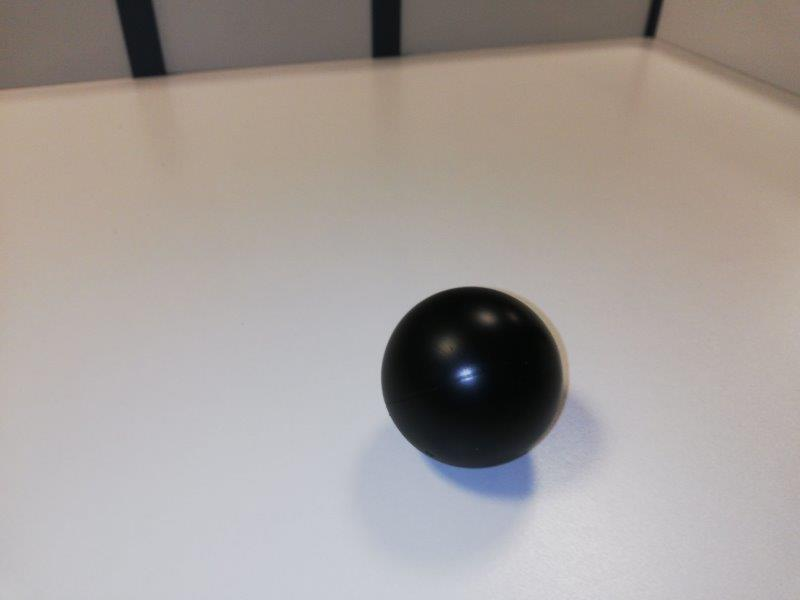nera: (378, 285, 567, 470)
